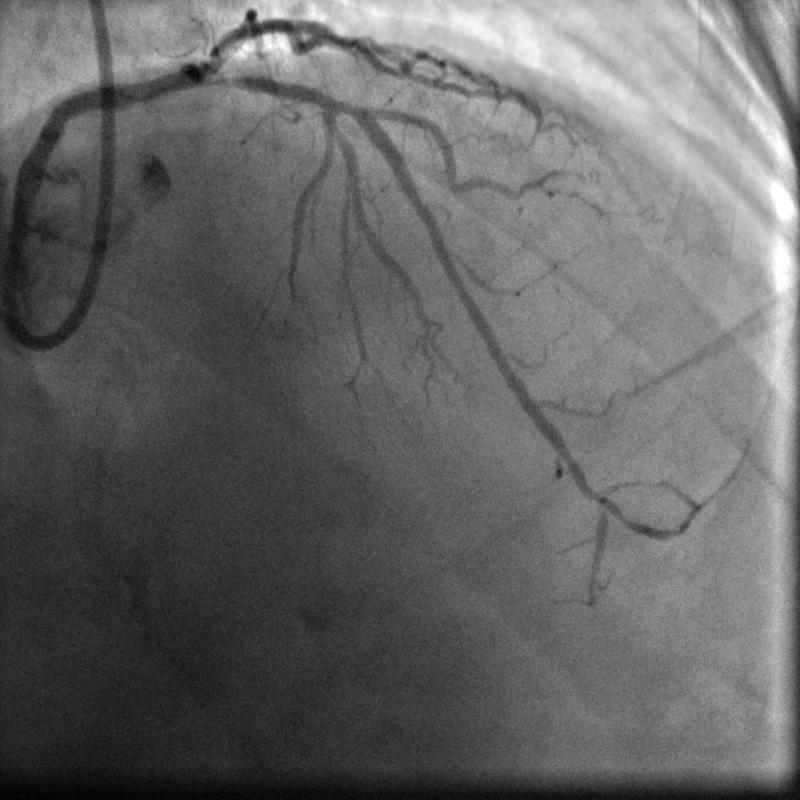Stenosis: (203, 61, 258, 91)
